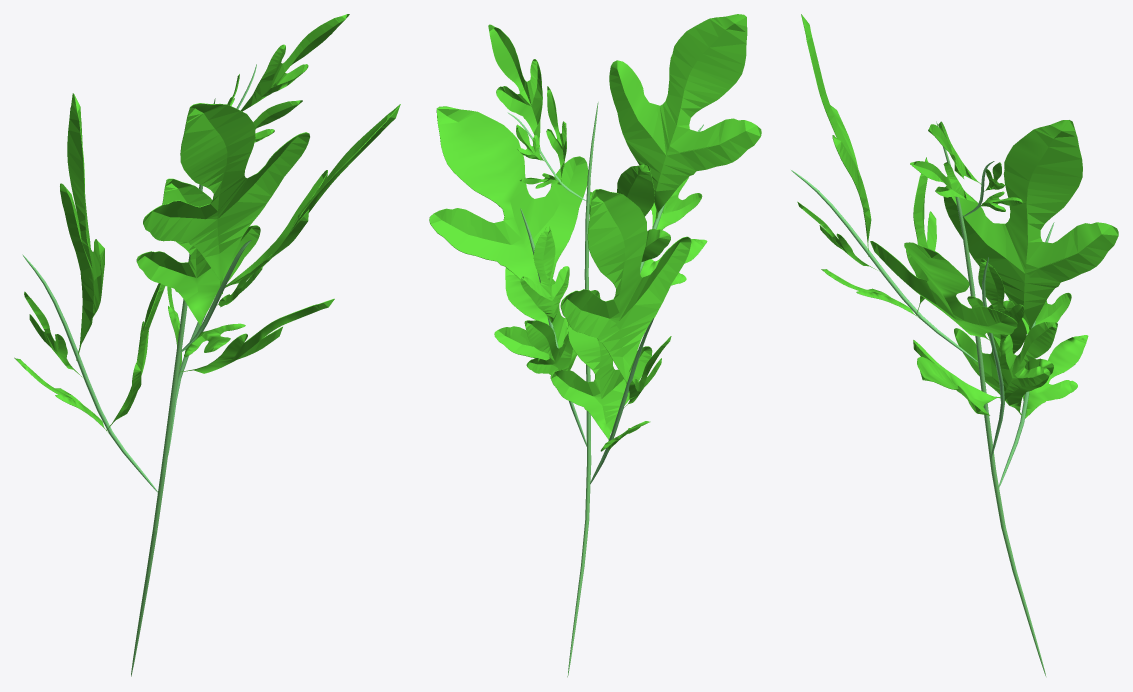
Rendered from sassafrass_FINALIHOPE.fbx.
The picture shows the model from 3 angles, left to right: view 1: azimuth 30°, elevation 25°; view 2: azimuth 150°, elevation 25°; view 3: azimuth 270°, elevation 25°; orthographic projection. The views are drawn at different scales.
Parts seen in each view (by area): view 1: Stem2; view 2: Stem2; view 3: Stem2.
Part boxes in pixels (x1,y1,x2,y2): Stem2: [14, 14, 400, 676]; Stem2: [429, 14, 761, 677]; Stem2: [791, 14, 1118, 676].
Bounding box in the file's own units: 18.09 × 36.74 × 17.31.
